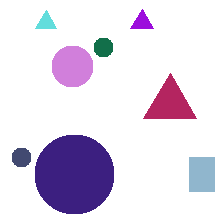circle: (35, 135, 113, 213), (52, 46, 92, 86), (94, 38, 112, 56), (12, 148, 30, 166)
rectangle: (189, 157, 214, 191)
triangle: (143, 73, 196, 118), (130, 9, 153, 28), (35, 10, 56, 28)
